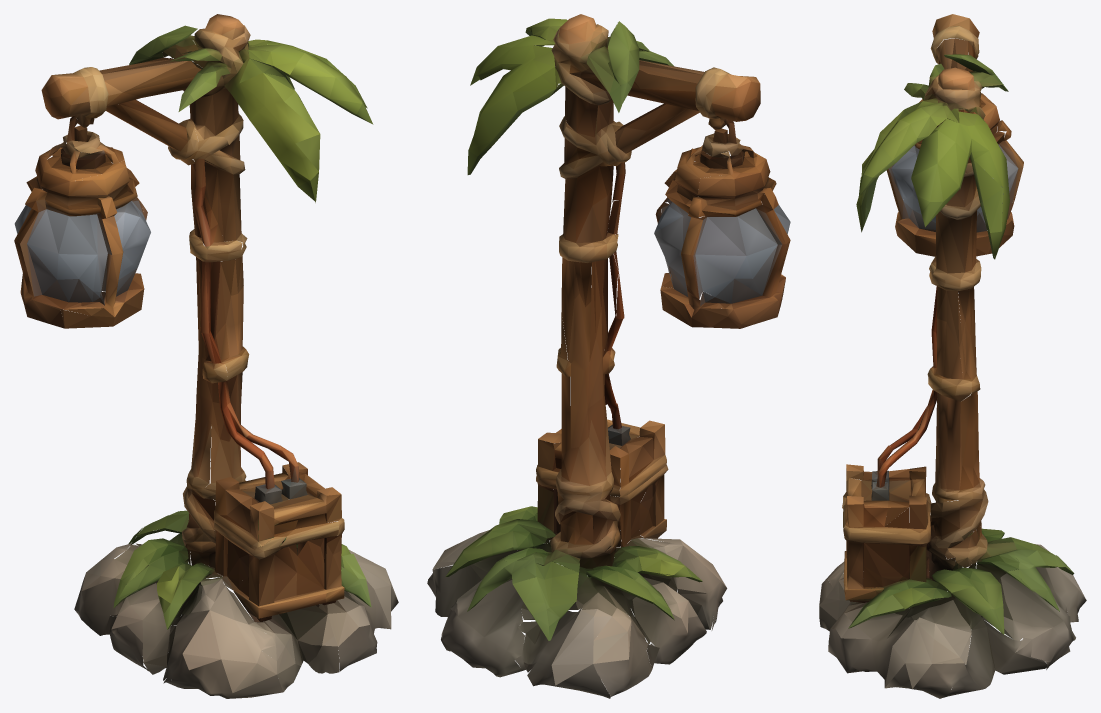
Rendered from building-circuitLamp.glb.
The picture shows the model from 3 angles, left to right: view 1: azimuth 30°, elevation 25°; view 2: azimuth 150°, elevation 25°; view 3: azimuth 270°, elevation 25°; orthographic projection. The views are drawn at different scales.
Parts seen in each view (by area): view 1: 0_circuitLamp; view 2: 0_circuitLamp; view 3: 0_circuitLamp.
Part boxes in pixels (bbox=[...]): 0_circuitLamp: bbox=[14, 14, 398, 698]; 0_circuitLamp: bbox=[427, 14, 790, 698]; 0_circuitLamp: bbox=[819, 14, 1086, 698].
Size of the model in its own units: 1.54 by 2.51 by 1.08.
